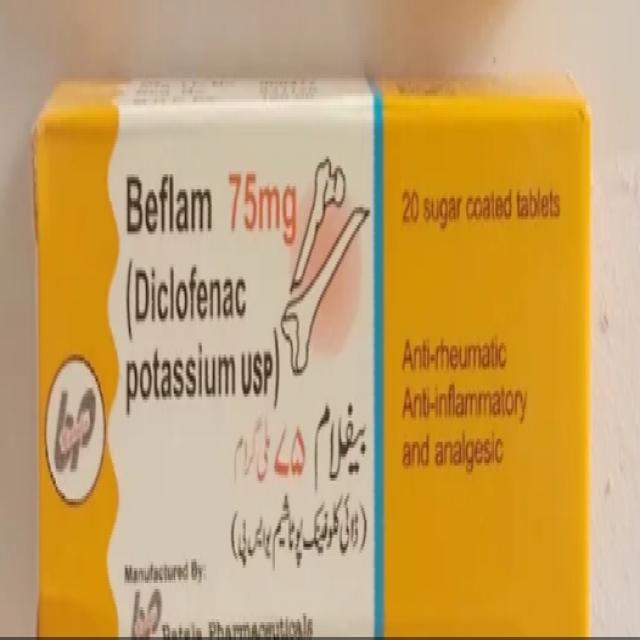drug-name: (125, 166, 213, 234)
